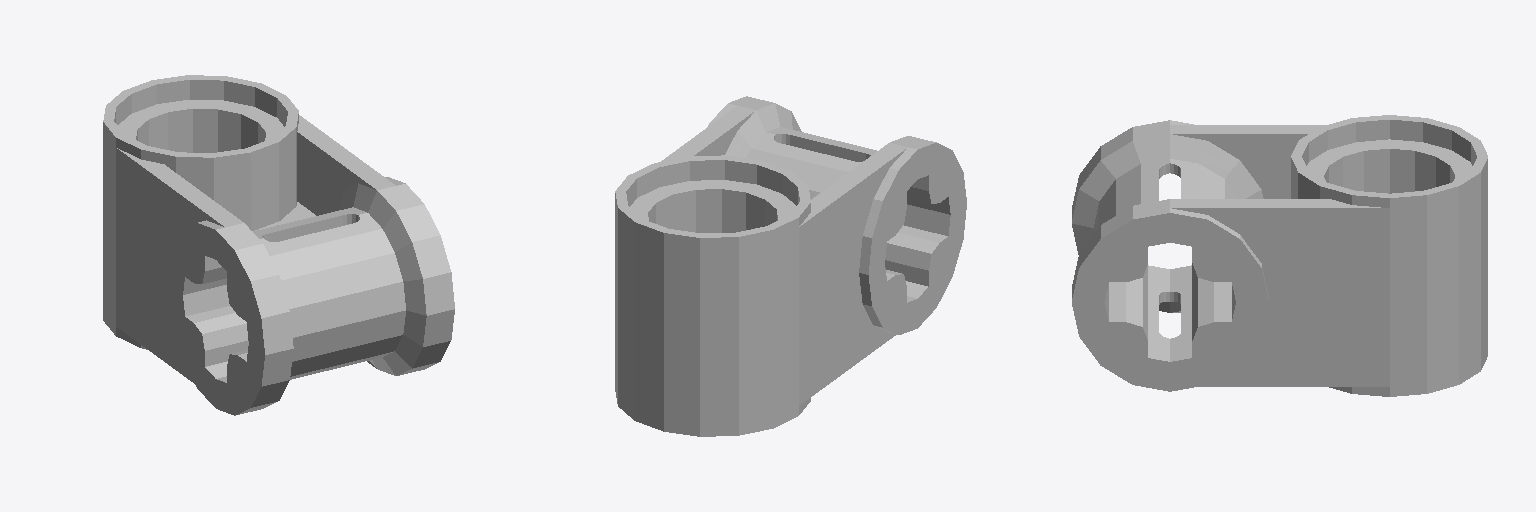
File: Piece021.obj
The picture shows the model from 3 angles: view 1: azimuth 30°, elevation 25°; view 2: azimuth 150°, elevation 25°; view 3: azimuth 270°, elevation 25°; orthographic projection.
Parts seen in each view (by area): view 1: Piece000; view 2: Piece000; view 3: Piece000.
Boxes of the visible parts, x1,y1,x2,y2 form: Piece000: [103, 75, 454, 415]; Piece000: [615, 96, 966, 436]; Piece000: [1072, 115, 1487, 396].
Bounding box in the file's own units: 20 × 20 × 38.